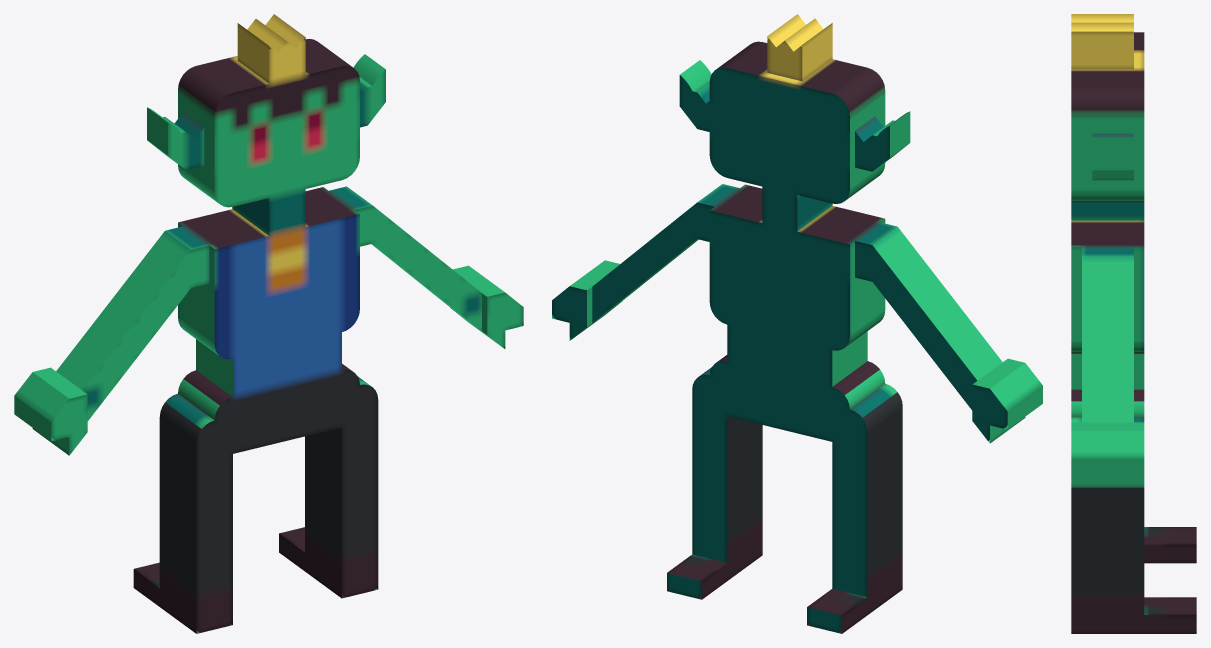
File: Gabbo_Glethan.fbx
3 views of the same model, side by side, from view 1: azimuth 30°, elevation 25°; view 2: azimuth 150°, elevation 25°; view 3: azimuth 270°, elevation 25° (orthographic). The views are drawn at different scales.
Parts seen in each view (by area): view 1: generated; view 2: generated; view 3: generated.
Boxes of the visible parts, x1,y1,x2,y2 form: generated: [14, 14, 523, 633]; generated: [552, 14, 1042, 633]; generated: [1071, 14, 1196, 633].
Size of the model in its own units: 130 by 150 by 30.
